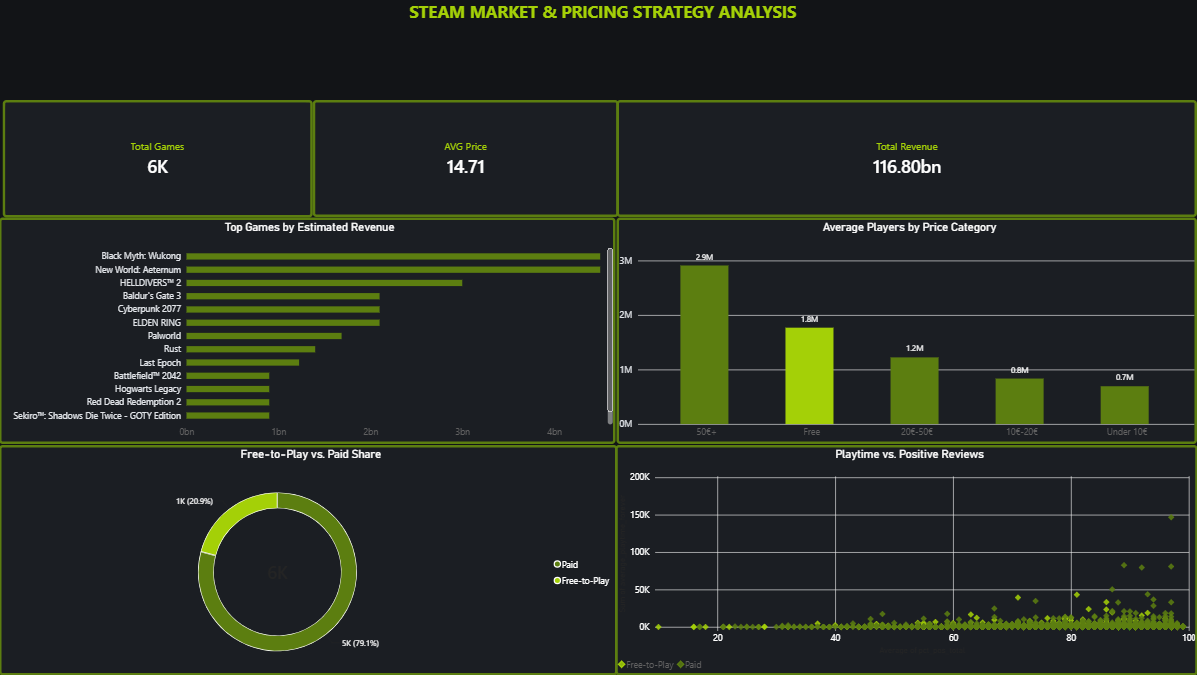

The page's visual inventory and layout, read from the dashboard file:
{"tool":"powerbi","page":{"name":"Page 1","canvas":[1920,1080],"ordinal":0},"visuals":[{"type":"cardVisual","fields":{"Data":["steam_cleaned.Total Games"]},"box":[5.4,159.3,495.8,188.2],"z":0},{"type":"cardVisual","fields":{"Data":["steam_cleaned.AVG Price"]},"box":[501.3,159.3,489.9,187.3],"z":1000},{"type":"cardVisual","fields":{"Data":["Sum(steam_cleaned.est_revenue)"]},"box":[988.1,159.3,930.4,187.3],"z":2000},{"type":"clusteredBarChart","title":"Top Games by Estimated Revenue","fields":{"Category":["steam_cleaned.name"],"Y":["Sum(steam_cleaned.est_revenue)"]},"box":[0,347.5,989.9,363.7],"z":3000},{"type":"columnChart","title":"Average Players by Price Category","fields":{"Category":["steam_cleaned.price_category"],"Y":["steam_cleaned.Avg Players"]},"box":[986.3,347.5,912.1,363.7],"z":4000},{"type":"donutChart","title":"Free-to-Play vs. Paid Share","fields":{"Category":["steam_cleaned.is_free"],"Y":["steam_cleaned.Total Games"]},"box":[0,711.2,989.9,369.2],"z":5000},{"type":"scatterChart","title":"Playtime vs. Positive Reviews","fields":{"Category":["steam_cleaned.name"],"Series":["steam_cleaned.is_free"],"X":["Avg(steam_cleaned.pct_pos_total)"],"Y":["Sum(steam_cleaned.average_playtime_forever)"]},"box":[986.3,711.2,933.8,369.2],"z":6000},{"type":"textbox","box":[5.4,0,1912.8,159.3],"z":6001}]}

Visuals, with their boxes in screenshot pixels (x1, y1, x2, y2), scaled from the page's 1920x1080 canvas onto the 1197x675 screenshot:
cardVisual - steam_cleaned.Total Games: (left=3, top=100, right=312, bottom=217)
cardVisual - steam_cleaned.AVG Price: (left=313, top=100, right=618, bottom=217)
cardVisual - Sum(steam_cleaned.est_revenue): (left=616, top=100, right=1196, bottom=217)
"Top Games by Estimated Revenue" clusteredBarChart: (left=0, top=217, right=617, bottom=444)
"Average Players by Price Category" columnChart: (left=615, top=217, right=1184, bottom=444)
"Free-to-Play vs. Paid Share" donutChart: (left=0, top=444, right=617, bottom=674)
"Playtime vs. Positive Reviews" scatterChart: (left=615, top=444, right=1196, bottom=674)
textbox: (left=3, top=0, right=1196, bottom=100)
